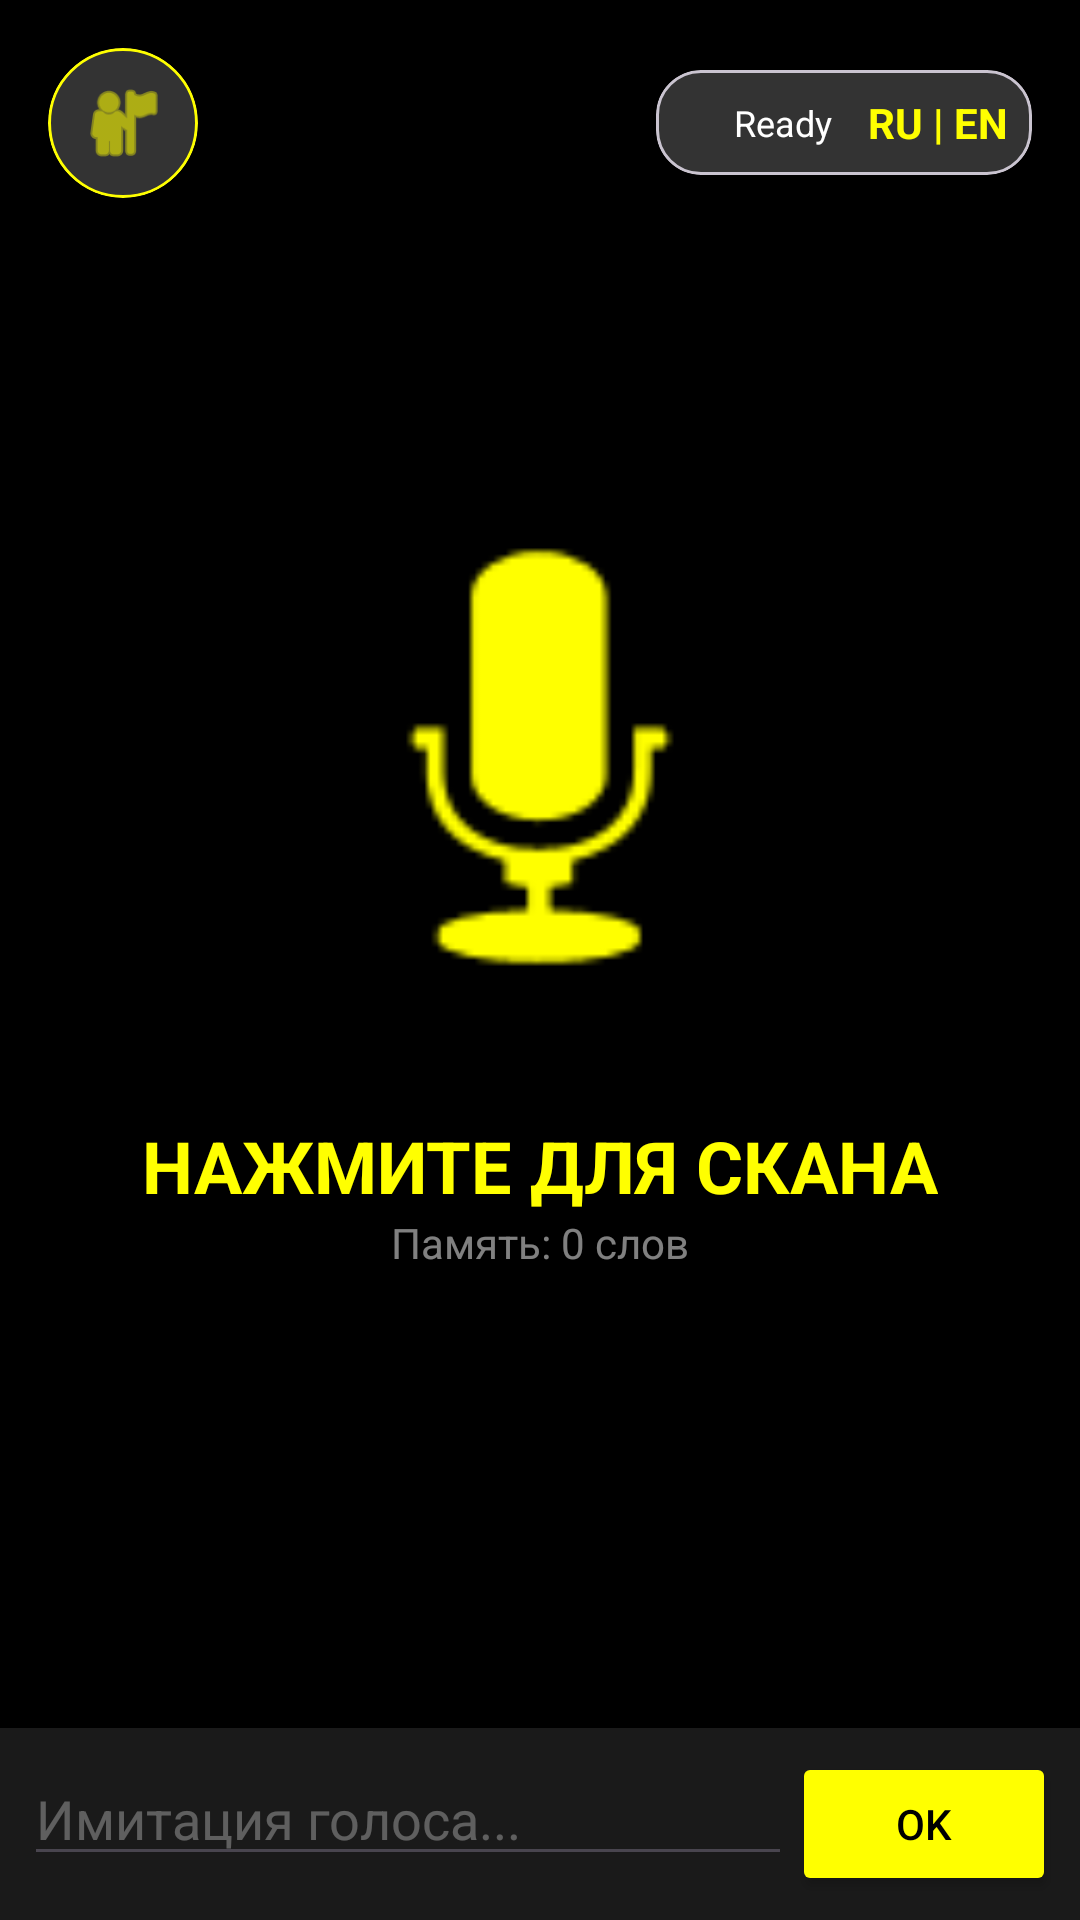

Named icons in this screenshot (1080 x 1920) and their centers, [x,y]:
myplaces: [123,123]
